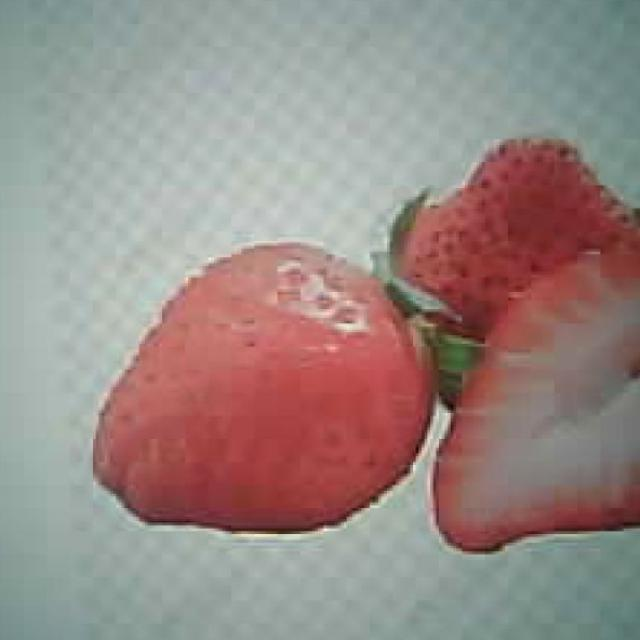Healthy Fruit: (94, 239, 434, 535), (397, 139, 640, 365)
